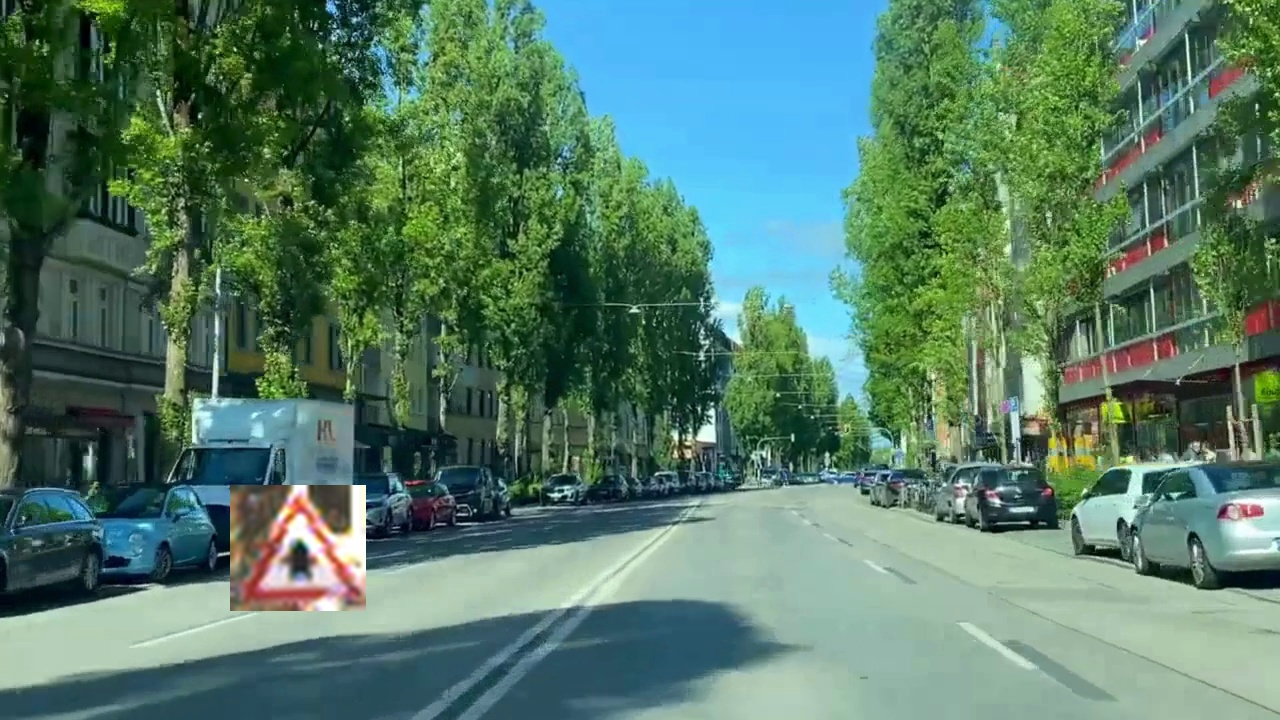Right-of-way: (230, 485, 366, 611)
